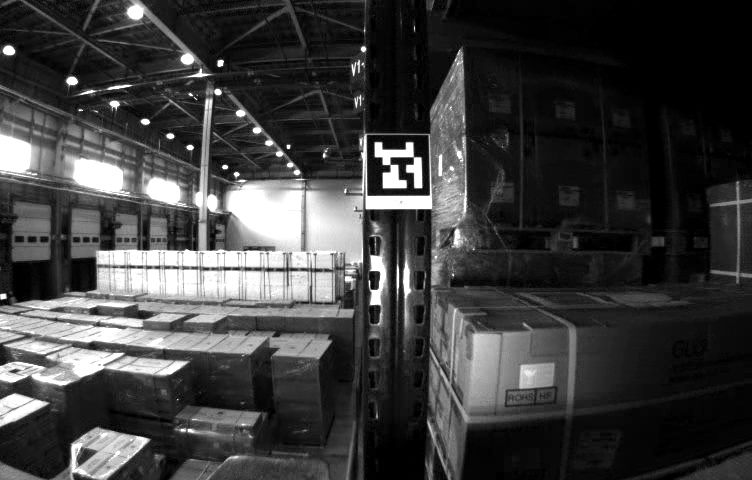True Barcode: (573, 428, 618, 470)
